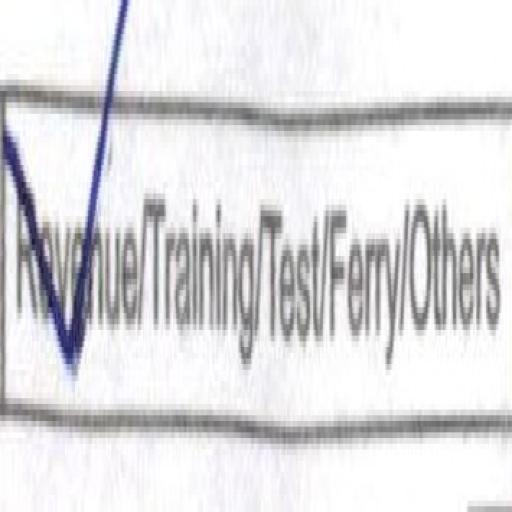check: (4, 18, 144, 434)
